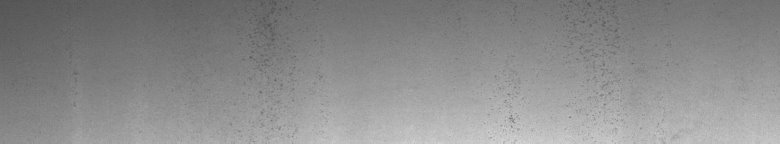ib: (496, 4, 620, 132)
